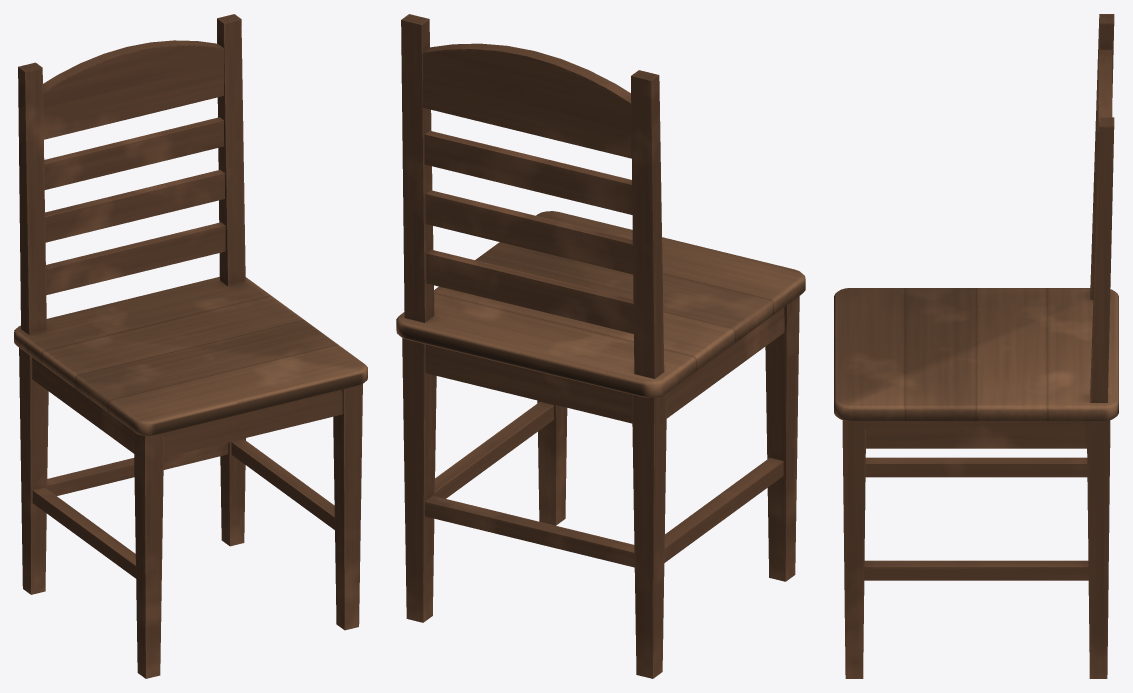
Rendered from dining_chair.glb.
3 views of the same model, side by side, from view 1: azimuth 30°, elevation 25°; view 2: azimuth 150°, elevation 25°; view 3: azimuth 270°, elevation 25° (orthographic). The views are drawn at different scales.
Parts seen in each view (by area): view 1: DiningChair; view 2: DiningChair; view 3: DiningChair.
Part boxes in pixels (<box>): DiningChair: <box>14,14,367,678</box>; DiningChair: <box>396,14,805,678</box>; DiningChair: <box>834,14,1118,678</box>.
Size of the model in its own units: 0.42 by 0.9 by 0.42.
1 material, 1 textured.
